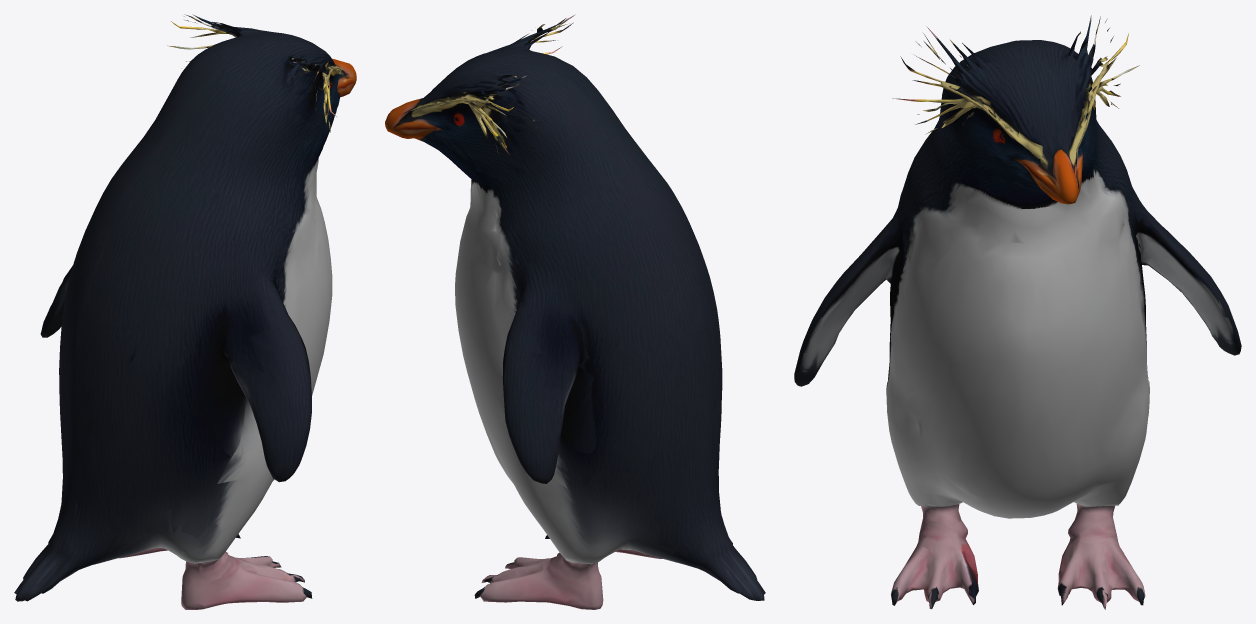
The model's file is pinguino.obj.
The picture shows the model from 3 angles, left to right: view 1: azimuth 30°, elevation 25°; view 2: azimuth 150°, elevation 25°; view 3: azimuth 270°, elevation 25°; orthographic projection. The views are drawn at different scales.
Parts seen in each view (by area): view 1: tripo_node_ec8745c3-bda8-4347-ad56-d02ff18cfc2e; view 2: tripo_node_ec8745c3-bda8-4347-ad56-d02ff18cfc2e; view 3: tripo_node_ec8745c3-bda8-4347-ad56-d02ff18cfc2e.
Part boxes in pixels (x1,y1,x2,y2): tripo_node_ec8745c3-bda8-4347-ad56-d02ff18cfc2e: (14,14,356,609); tripo_node_ec8745c3-bda8-4347-ad56-d02ff18cfc2e: (385,14,765,609); tripo_node_ec8745c3-bda8-4347-ad56-d02ff18cfc2e: (794,15,1241,609).
Size of the model in its own units: 0.7201 by 0.9987 by 0.7003.
1 material, 1 textured.
